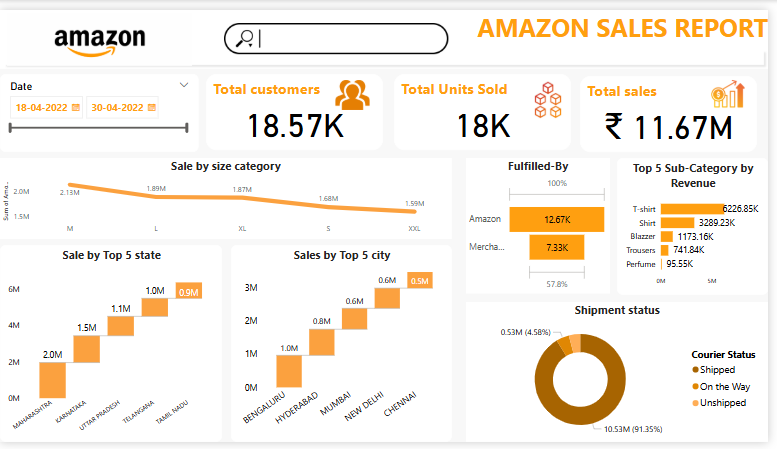

The page's visual inventory and layout, read from the dashboard file:
{"tool":"powerbi","page":{"name":"Amazon sales report dashboard","canvas":[1280,720],"ordinal":0},"visuals":[{"type":"shape","title":"AMAZON SALES REPORT","box":[0,0,1280,98.3],"z":0},{"type":"image","box":[0,0,331.2,97.9],"z":1000},{"type":"clusteredBarChart","title":"Top 5 Sub-Category by Revenue","fields":{"Category":["Amazon Sale Report.Category"],"Y":["Sum(Amazon Sale Report.Amount)"]},"box":[1028.2,246.2,252,227.5],"z":2000},{"type":"card","title":"Total sales","fields":{"Values":["Sum(Amazon Sale Report.Amount)"]},"box":[966.2,109.4,295,126.7],"z":3000},{"type":"image","box":[1163.5,106.6,100.8,66.2],"z":4000},{"type":"card","title":"Total Units Sold","fields":{"Values":["Sum(Amazon Sale Report.Qty)"]},"box":[656.6,106.6,295.2,126.7],"z":5000},{"type":"card","title":"Total customers","fields":{"Values":["Count(Amazon Sale Report.Order ID)"]},"box":[344.2,106.6,295.2,126.7],"z":6000},{"type":"waterfallChart","title":"Sales by Top 5 city ","fields":{"Category":["Amazon Sale Report.ship-city"],"Y":["Sum(Amazon Sale Report.Amount)"]},"box":[385,391.7,368.3,328.3],"z":7000},{"type":"donutChart","title":"Shipment status","fields":{"Category":["Amazon Sale Report.Courier Status"],"Y":["Sum(Amazon Sale Report.Amount)"]},"box":[776.2,486.7,504,233.3],"z":8000},{"type":"image","box":[872.6,110.9,79.2,76.3],"z":9000},{"type":"image","box":[550.1,110.9,74.9,60.5],"z":10000},{"type":"waterfallChart","title":"Sale by Top 5 state","fields":{"Category":["Amazon Sale Report.ship-state"],"Y":["Sum(Amazon Sale Report.Amount)"]},"box":[0,391.7,370,328.3],"z":11000},{"type":"lineChart","title":"Sale by size category","fields":{"Category":["Amazon Sale Report.Size"],"Y":["Sum(Amazon Sale Report.Amount)"]},"box":[0,246.7,753.3,135],"z":12000},{"type":"image","box":[368.6,17.3,384.5,61.9],"z":13000},{"type":"slicer","fields":{"Values":["Amazon Sale Report.Date"]},"box":[0,106.6,331.2,129.6],"z":14000},{"type":"funnel","title":"Fulfilled-By","fields":{"Y":["CountNonNull(Amazon Sale Report.Category)"],"Category":["Amazon Sale Report.Fulfilment"]},"box":[776.2,246.2,240.5,226.1],"z":15000}]}

Visuals, with their boxes in screenshot pixels (x1, y1, x2, y2), scaled from the page's 1280x720 canvas onto the 777x449 screenshot:
"AMAZON SALES REPORT" shape: <bbox>0, 0, 776, 61</bbox>
image: <bbox>0, 0, 201, 61</bbox>
"Top 5 Sub-Category by Revenue" clusteredBarChart: <bbox>624, 154, 776, 295</bbox>
"Total sales" card: <bbox>587, 68, 766, 147</bbox>
image: <bbox>706, 66, 767, 108</bbox>
"Total Units Sold" card: <bbox>399, 66, 578, 145</bbox>
"Total customers" card: <bbox>209, 66, 388, 145</bbox>
"Sales by Top 5 city " waterfallChart: <bbox>234, 244, 457, 448</bbox>
"Shipment status" donutChart: <bbox>471, 304, 776, 448</bbox>
image: <bbox>530, 69, 578, 117</bbox>
image: <bbox>334, 69, 379, 107</bbox>
"Sale by Top 5 state" waterfallChart: <bbox>0, 244, 225, 448</bbox>
"Sale by size category" lineChart: <bbox>0, 154, 457, 238</bbox>
image: <bbox>224, 11, 457, 49</bbox>
slicer - Amazon Sale Report.Date: <bbox>0, 66, 201, 147</bbox>
"Fulfilled-By" funnel: <bbox>471, 154, 617, 295</bbox>
